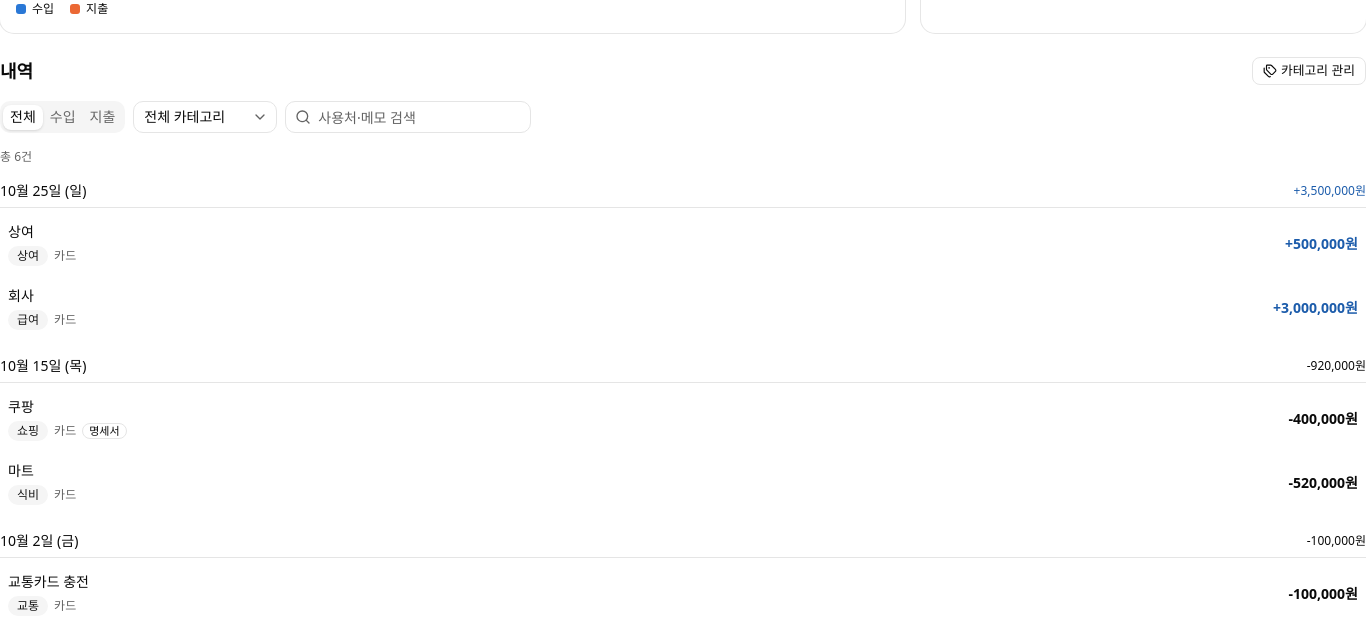
Test: 내역 추가·수정·삭제 › 삭제를 확인하면 DELETE하고 목록에서 뺀다
(page scrolled)
Click the button "쿠팡 쇼핑 카드 명세서 -400,000원".
click(28, 431)  # box [0,387,1365,451]
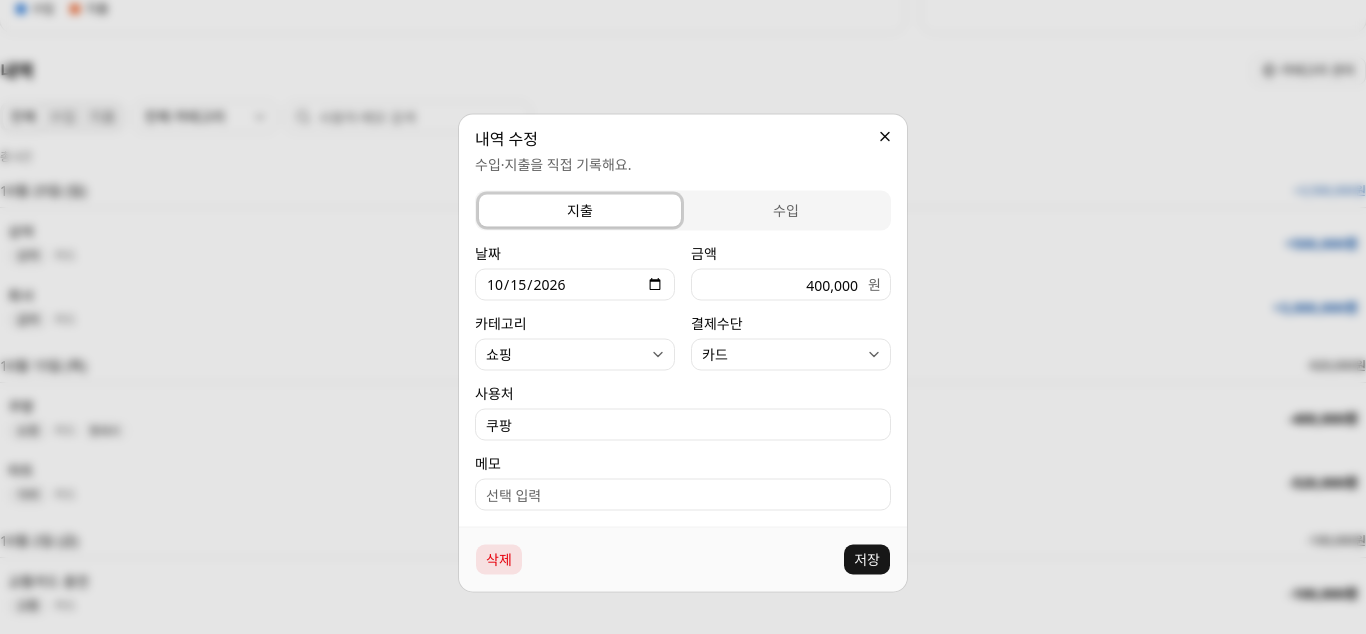
Click the button "삭제".
click(499, 560)  # box [475,544,523,576]
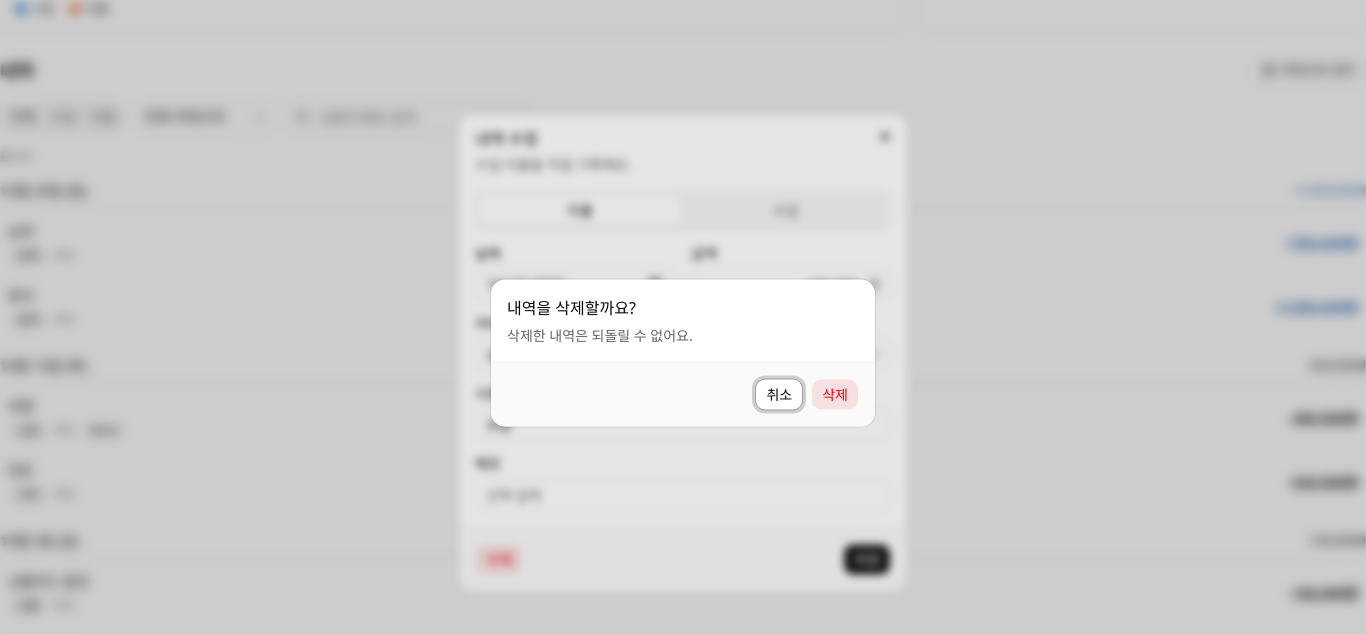
Click the button "삭제".
click(835, 394)  # box [811,378,859,410]
(page scrolled)
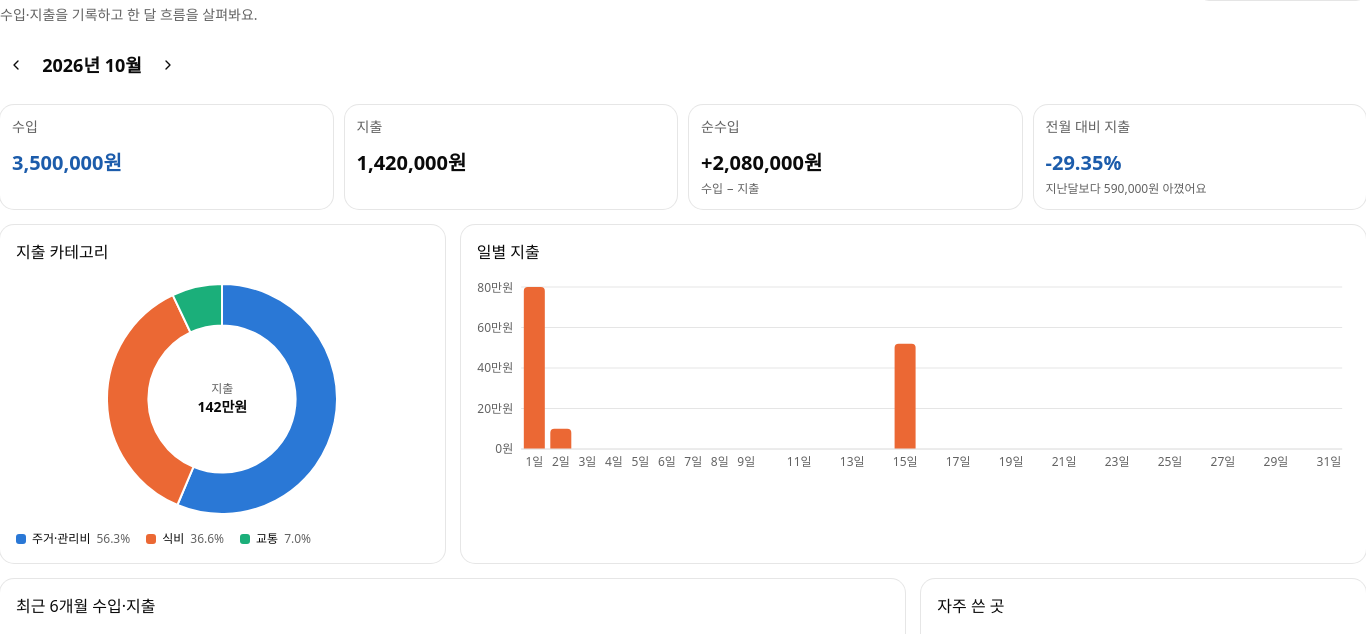
Expected: the dialog is gone
Expected: the text "1,420,000원" is shown, [356,149,466,176]
